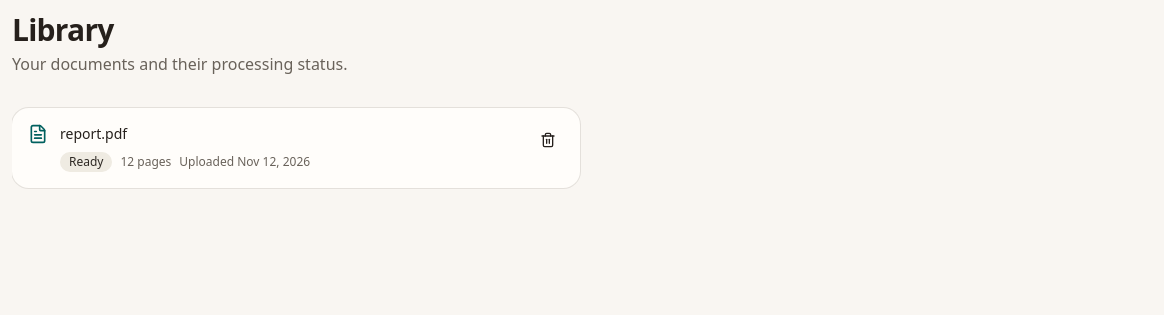
Test case: library page › asks before deleting and removes the card on success
Click the button named "Delete report.pdf": (548, 140) [532,124,564,156]
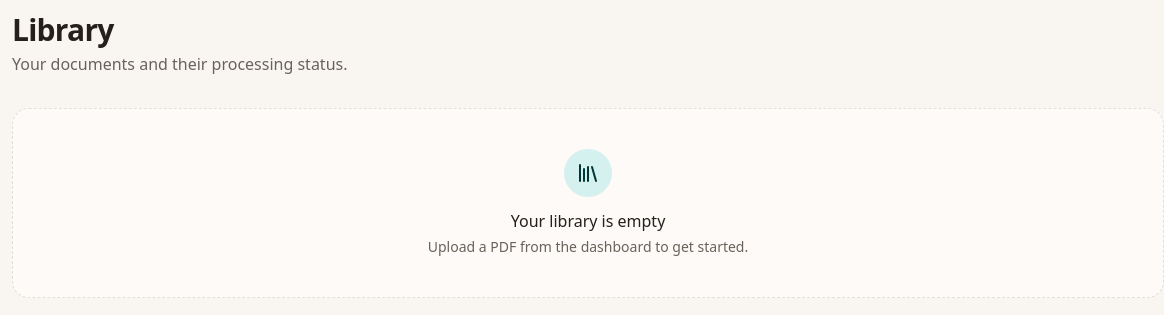
Check: the text "Your library is empty" is shown, box [511,210,665,232]
